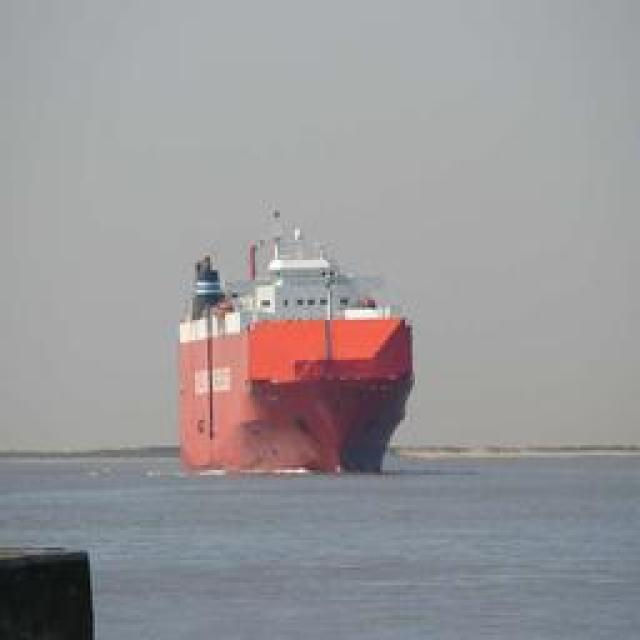CIV_Ship: (180, 217, 412, 475)
